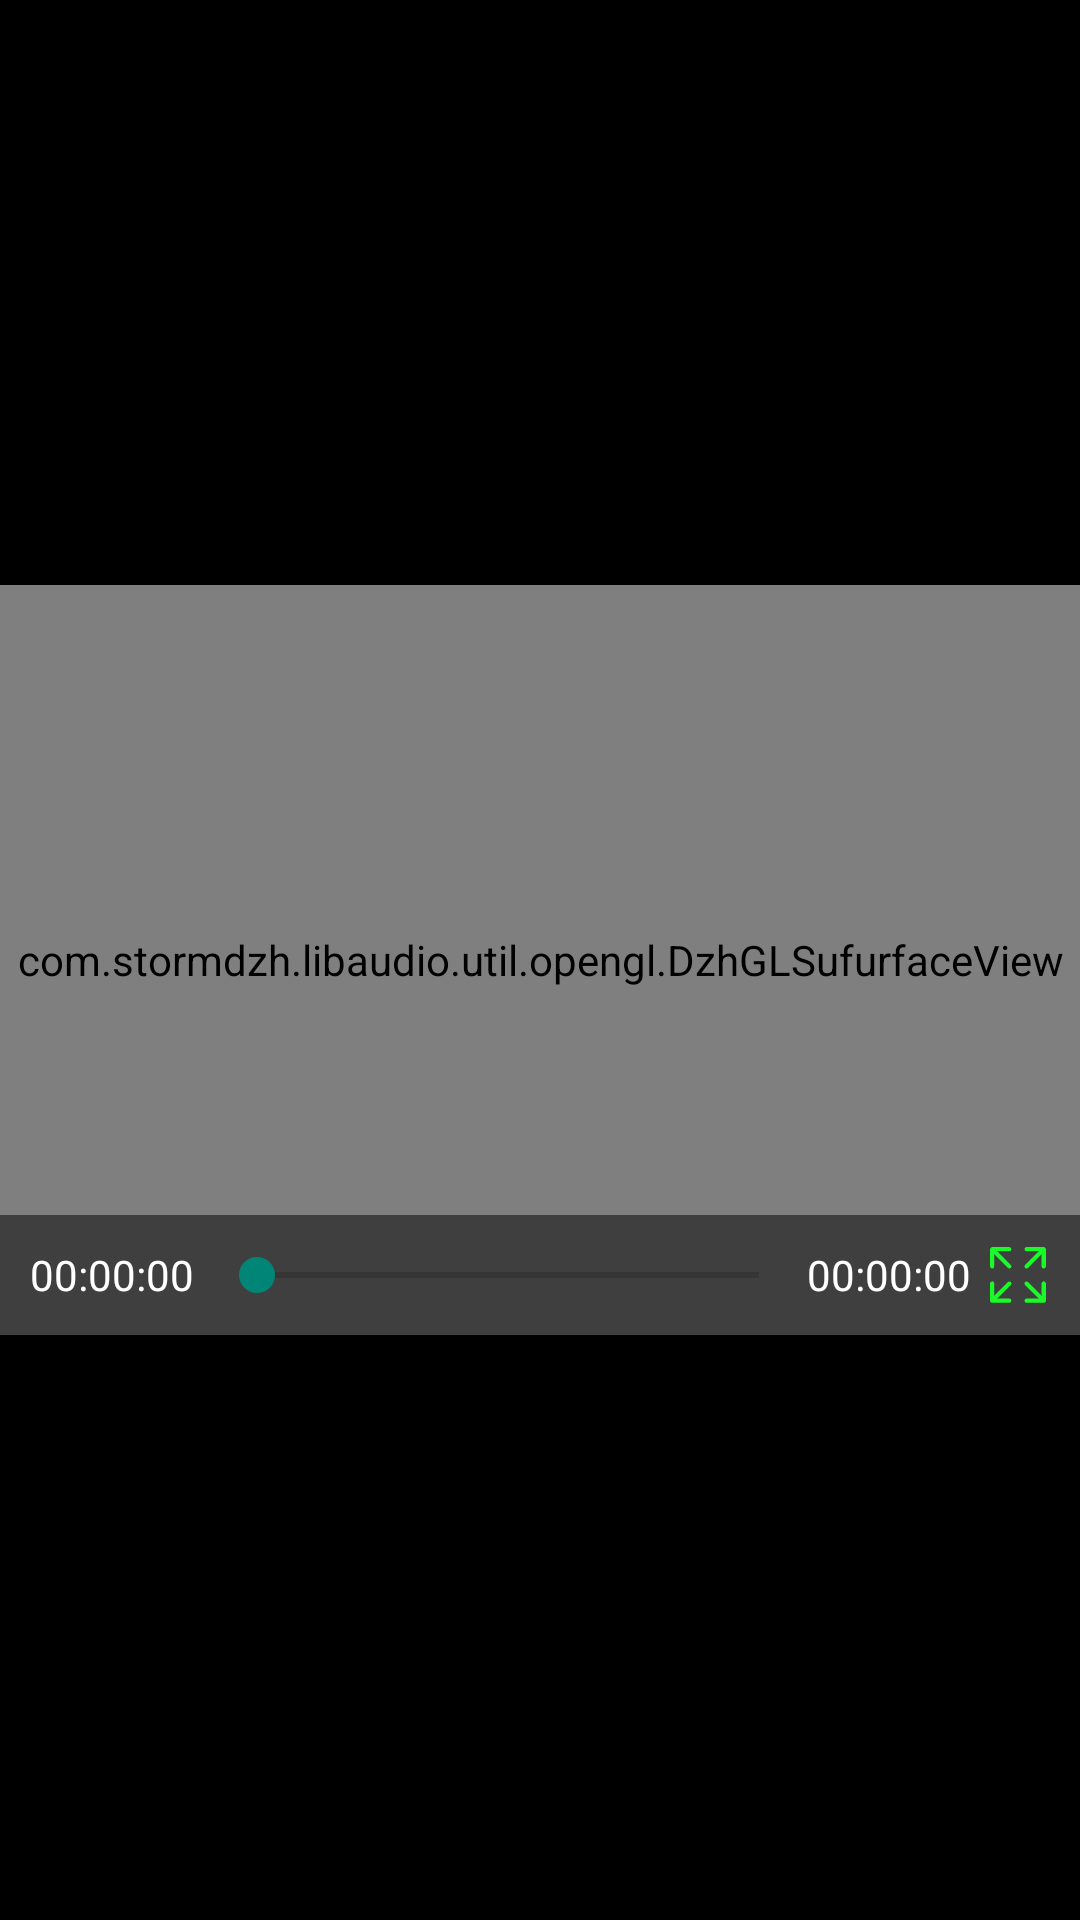

Point at icon controls on the screen. Image size 1080px×1920px, points as (x=x, y=y).
player scale: (x=1018, y=1275)
